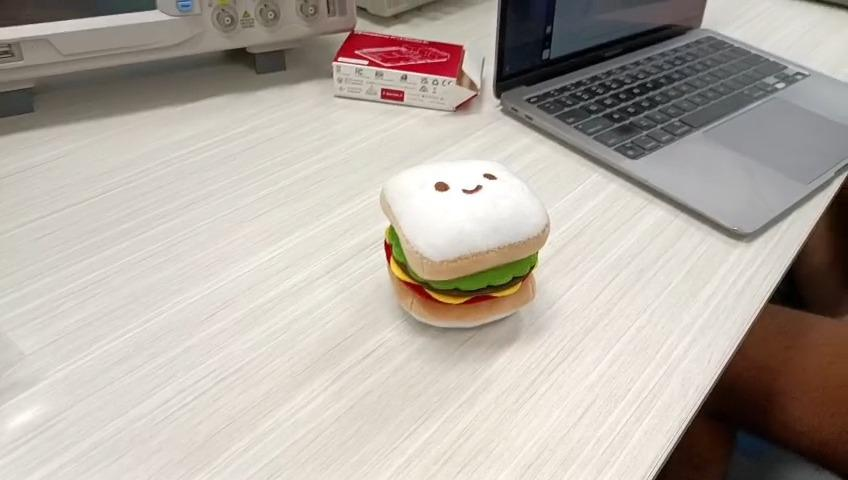objects: (378, 157, 553, 335)
